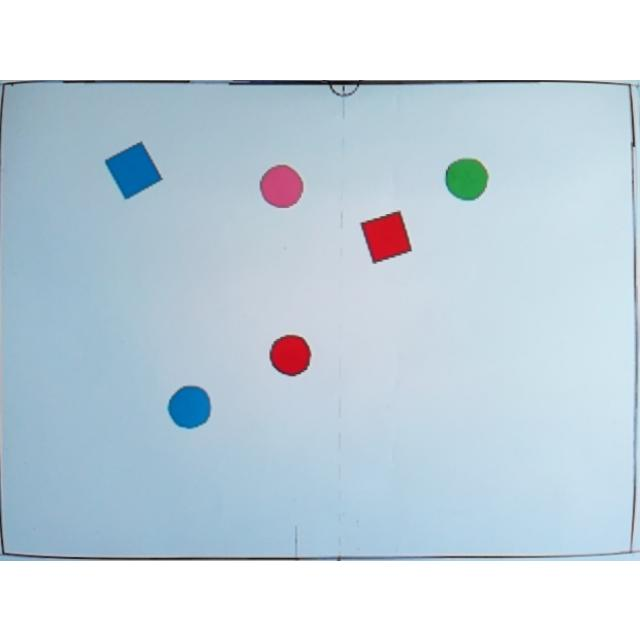blueCircle: (167, 384, 211, 428)
blueSquare: (104, 140, 164, 200)
greenCircle: (444, 154, 491, 202)
pinkCircle: (260, 163, 304, 207)
redCircle: (268, 331, 312, 375)
redSquare: (359, 208, 415, 264)
